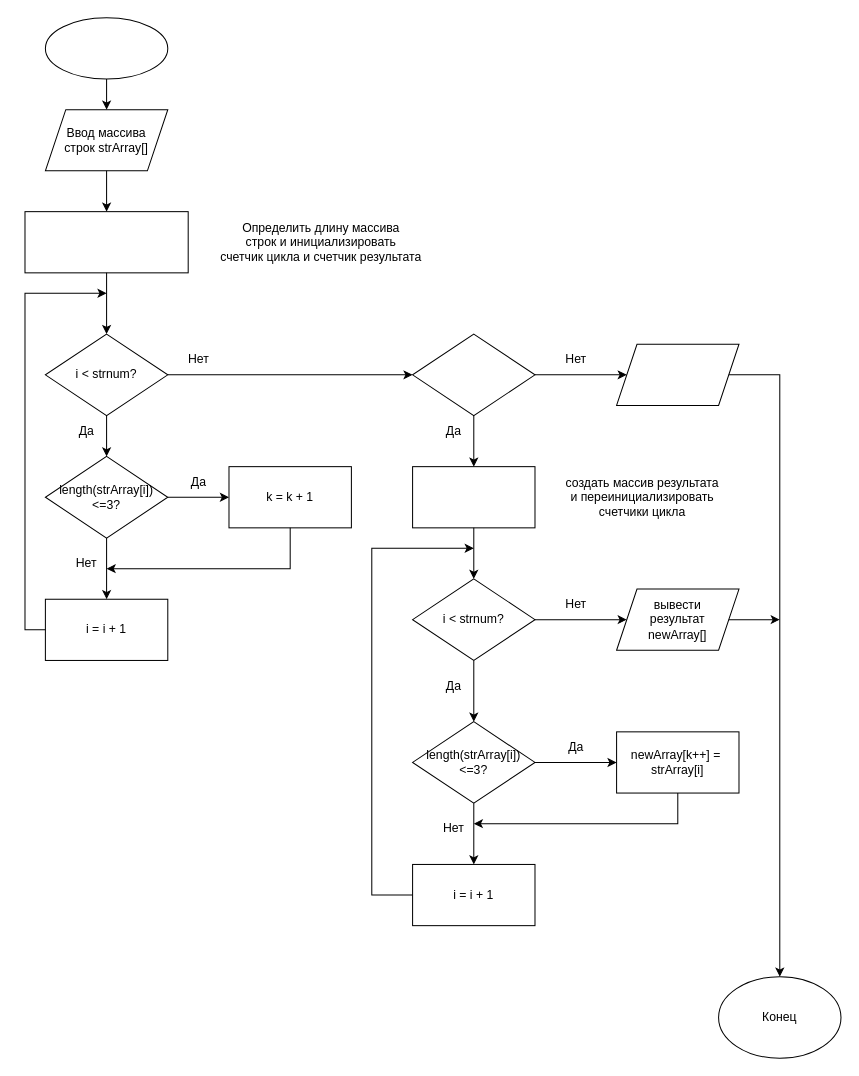
Some shapes in this 859 by 1076 pixel diagram are drawn without their labels. Each missing label, with the centre of its shape:
k > 0?: (473,374)
new newArray(k) i = 0 k = 0: (473,497)
strnum = length(strArray) i = 0 k = 0: (106,242)
НАЧАЛО: (106,48)
строк нет: (677,374)
